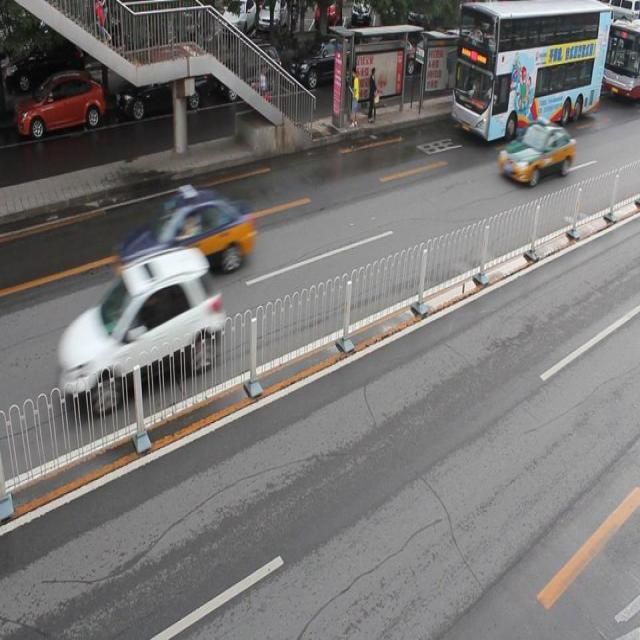car: (58, 250, 220, 397), (117, 191, 253, 274), (14, 72, 105, 141), (117, 56, 205, 119), (498, 118, 574, 184), (288, 36, 358, 90), (220, 43, 279, 102)
van: (452, 1, 608, 139), (602, 18, 640, 97)
